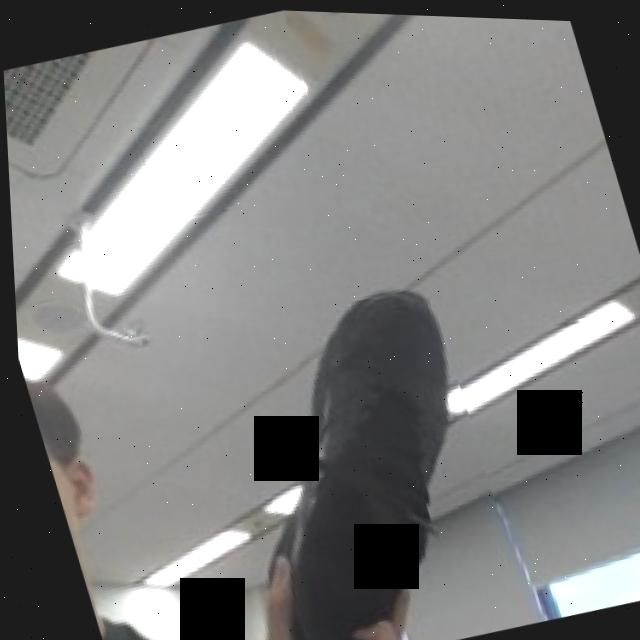shoe: (182, 274, 525, 640)
